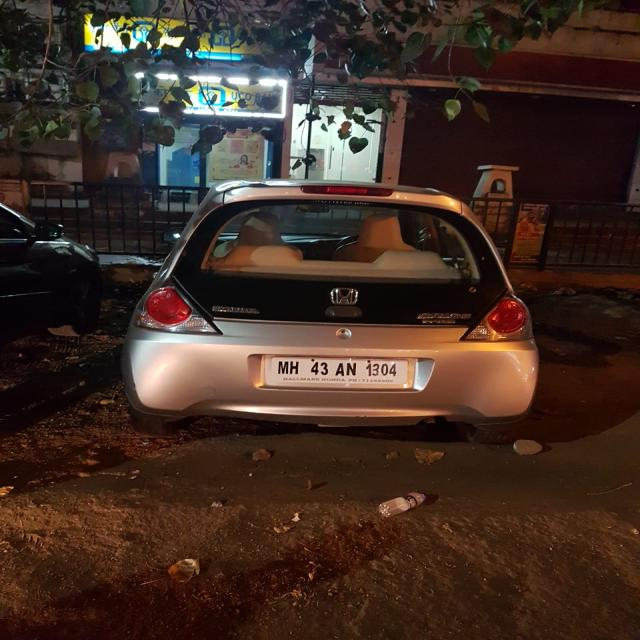Number-Plate: (270, 355, 409, 384)
